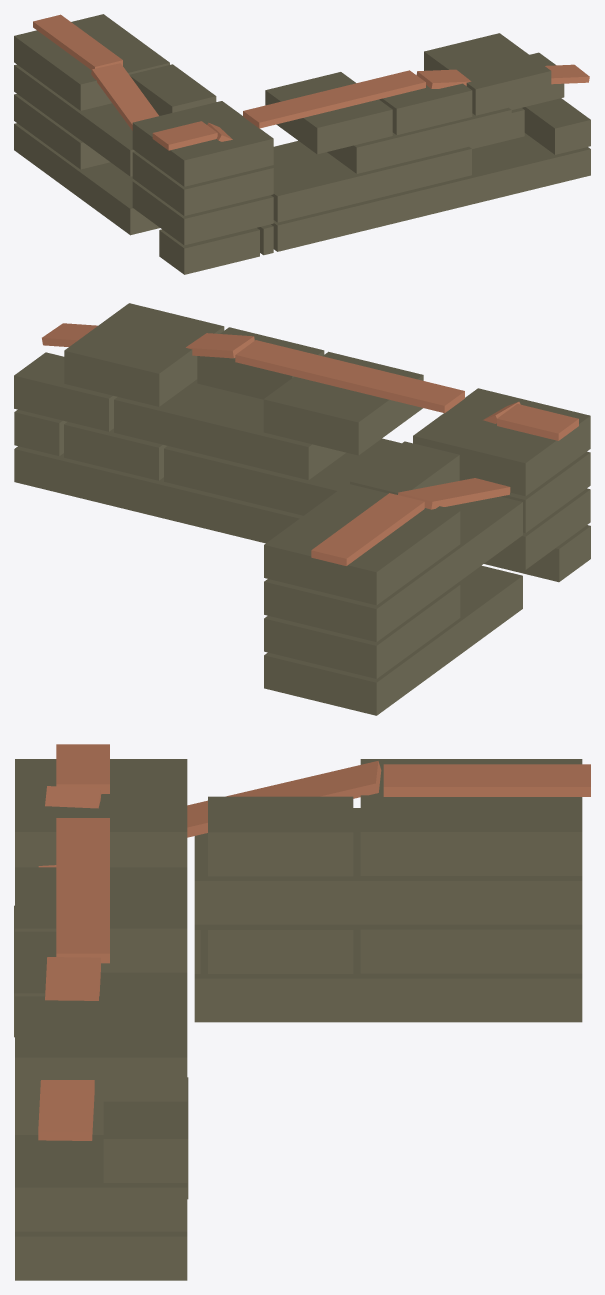
File: SM_PretilEsquinaPaso_v3_Tablon_e1_Danado_LOD1.fbx
The picture shows the model from 3 angles, top to bottom: view 1: azimuth 30°, elevation 25°; view 2: azimuth 150°, elevation 25°; view 3: azimuth 270°, elevation 25°; orthographic projection. The views are drawn at different scales.
Parts seen in each view (by area): view 1: SM_pretil_azotea_v53_LOD1; view 2: SM_pretil_azotea_v53_LOD1; view 3: SM_pretil_azotea_v53_LOD1.
Boxes of the visible parts, <box> form: SM_pretil_azotea_v53_LOD1: <box>14,14,590,274</box>; SM_pretil_azotea_v53_LOD1: <box>14,303,590,715</box>; SM_pretil_azotea_v53_LOD1: <box>14,744,590,1280</box>.
Size of the model in its own units: 4.46 by 1.24 by 3.21.
